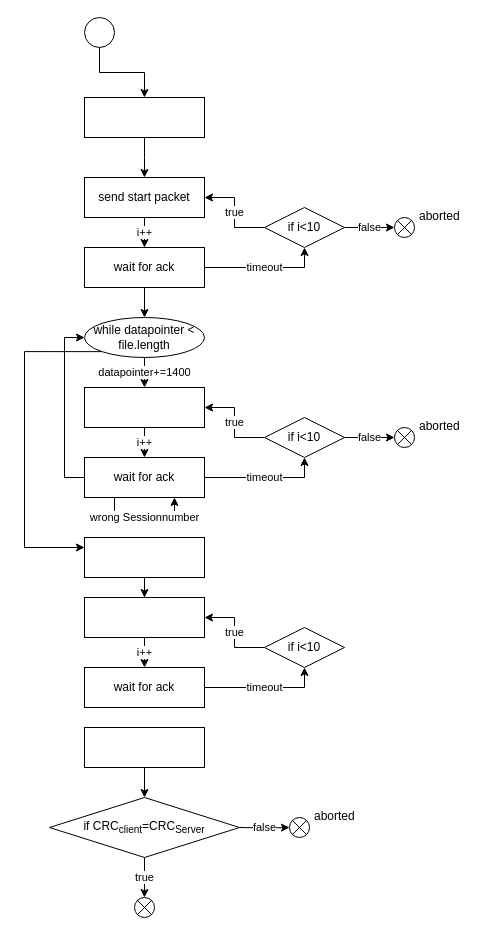
This 478x935 diagram has some shape labels left out. Here are the shapes that lost their labels. From the top down, the box of each, then its label:
(84, 96, 204, 138): file_req
(84, 386, 204, 428): send data packet
(84, 536, 204, 578): calc CRC
(84, 596, 204, 638): send CRC packet
(84, 726, 204, 768): get backData(CRC)
